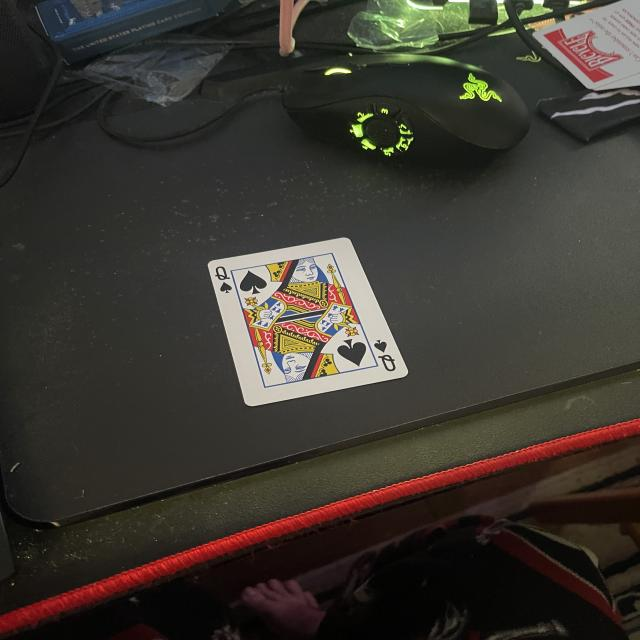Queen of spades: (208, 237, 408, 408)
